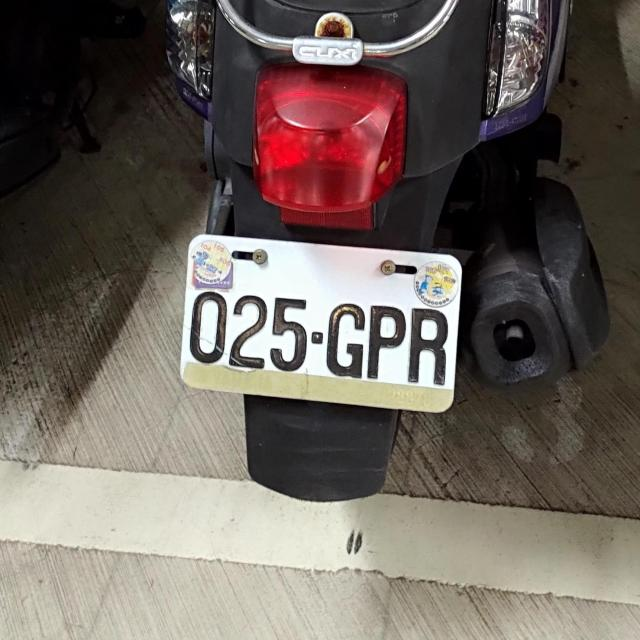W: (175, 228, 471, 410)
